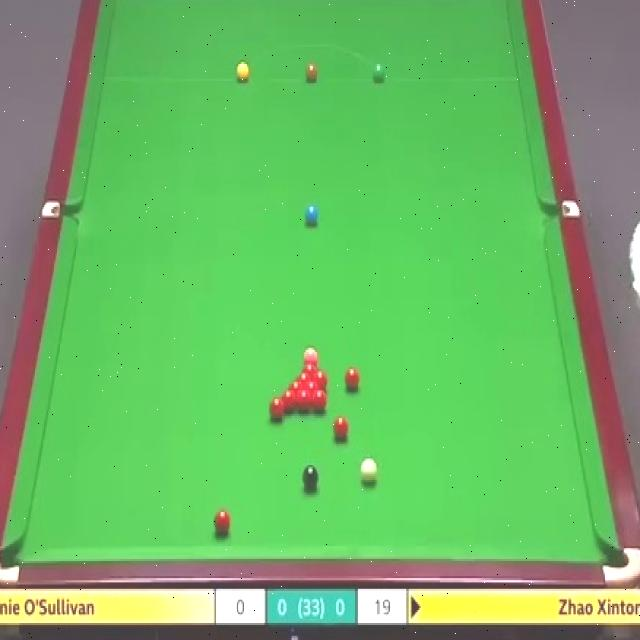black-ball: (302, 463, 319, 490)
blue-ball: (304, 203, 319, 228)
brown-ball: (306, 64, 319, 85)
green-ball: (371, 63, 387, 85)
pink-ball: (303, 348, 318, 359)
red-ball: (213, 508, 230, 537), (312, 390, 328, 416), (344, 368, 362, 391), (314, 370, 329, 391), (269, 398, 284, 419), (296, 391, 310, 413), (334, 419, 348, 441), (281, 393, 295, 413), (306, 362, 318, 379), (306, 381, 320, 395), (290, 382, 304, 393), (297, 372, 311, 382)
white-ball: (359, 458, 378, 485)
yellow-ball: (236, 62, 249, 82)
